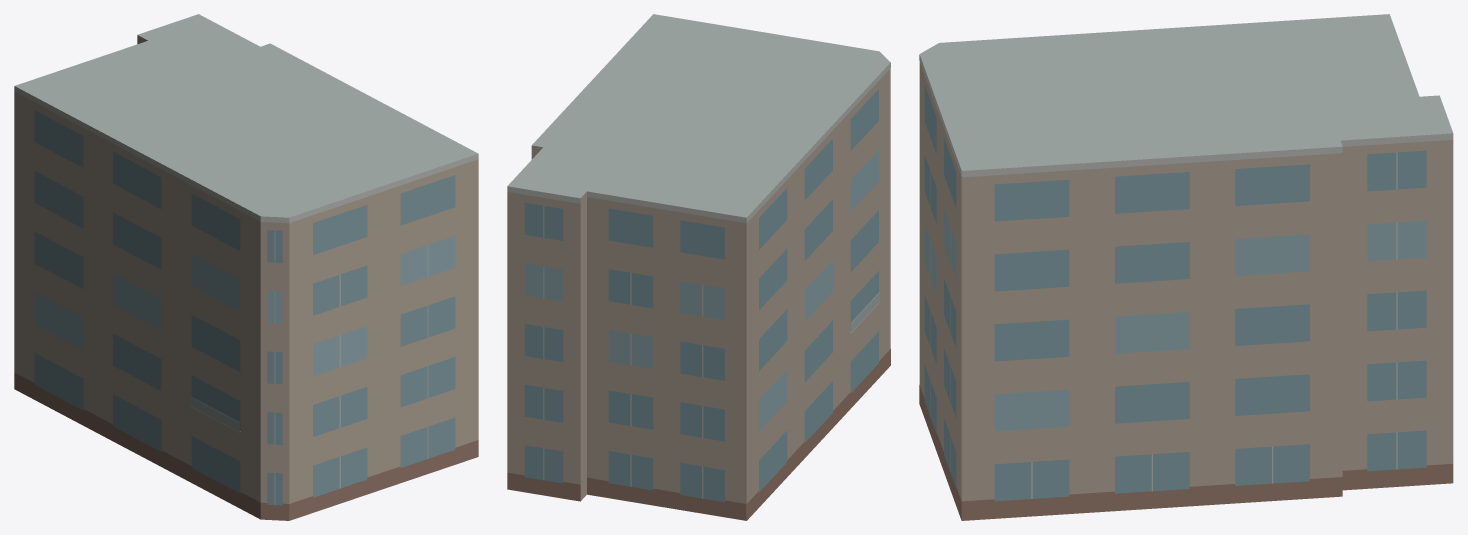
Rendered from survey-upis-32925666.glb.
3 renders of one model, left to right at view 1: azimuth 30°, elevation 25°; view 2: azimuth 150°, elevation 25°; view 3: azimuth 270°, elevation 25°, orthographic. The views are drawn at different scales.
Visible parts, largest first — view 1: survey-upis-32925666.tmp; view 2: survey-upis-32925666.tmp; view 3: survey-upis-32925666.tmp.
Part boxes in pixels (bbox=[...]): survey-upis-32925666.tmp: bbox=[14, 14, 478, 520]; survey-upis-32925666.tmp: bbox=[507, 14, 890, 520]; survey-upis-32925666.tmp: bbox=[919, 14, 1453, 520].
Size of the model in its own units: 12.81 by 13.3 by 18.41.
